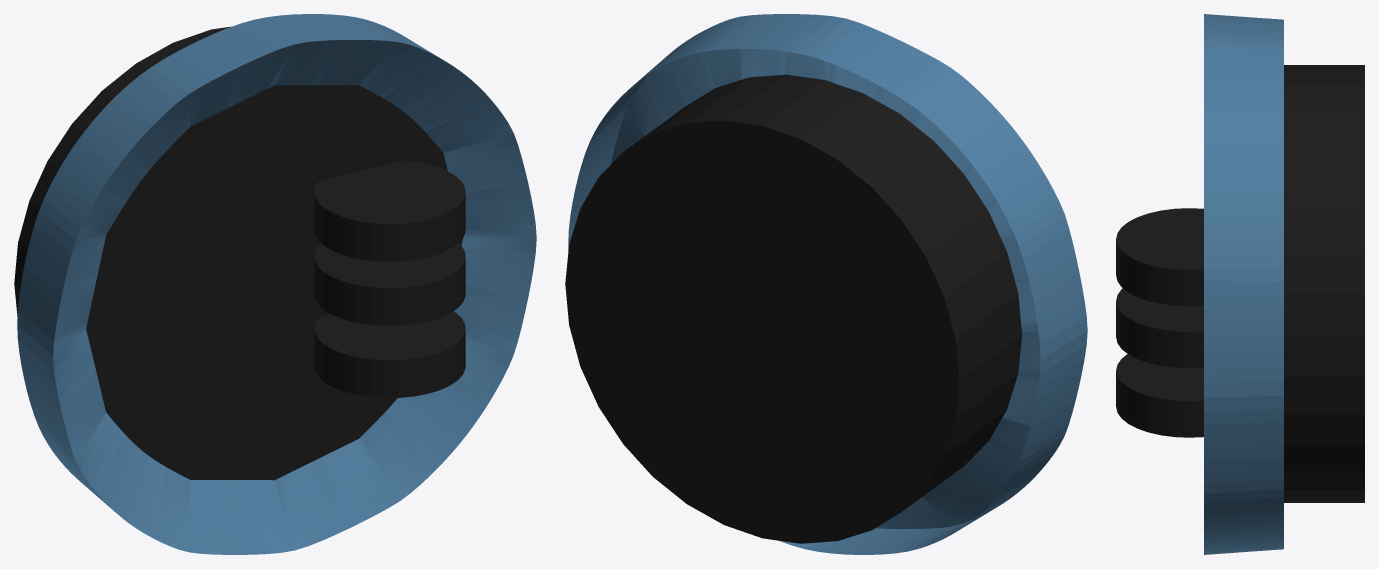
Rendered from mast_top.glb.
3 renders of one model, left to right at view 1: azimuth 30°, elevation 25°; view 2: azimuth 150°, elevation 25°; view 3: azimuth 270°, elevation 25°, orthographic. The views are drawn at different scales.
Visible parts, largest first — view 1: Circle.003, mast and boomrest; view 2: Circle.003, mast and boomrest; view 3: Circle.003, mast and boomrest.
Part boxes in pixels (box(x1,y1,x2,y2)): Circle.003: box(14, 26, 465, 480); mast and boomrest: box(17, 14, 536, 554); Circle.003: box(565, 74, 1021, 543); mast and boomrest: box(568, 14, 1087, 554); Circle.003: box(1116, 65, 1364, 502); mast and boomrest: box(1204, 14, 1283, 554).
Size of the model in its own units: 3 by 3 by 1.39.
